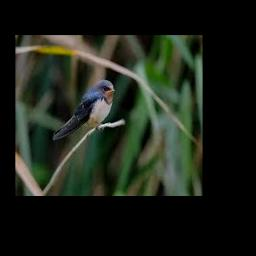Swallow: (50, 80, 114, 140)
